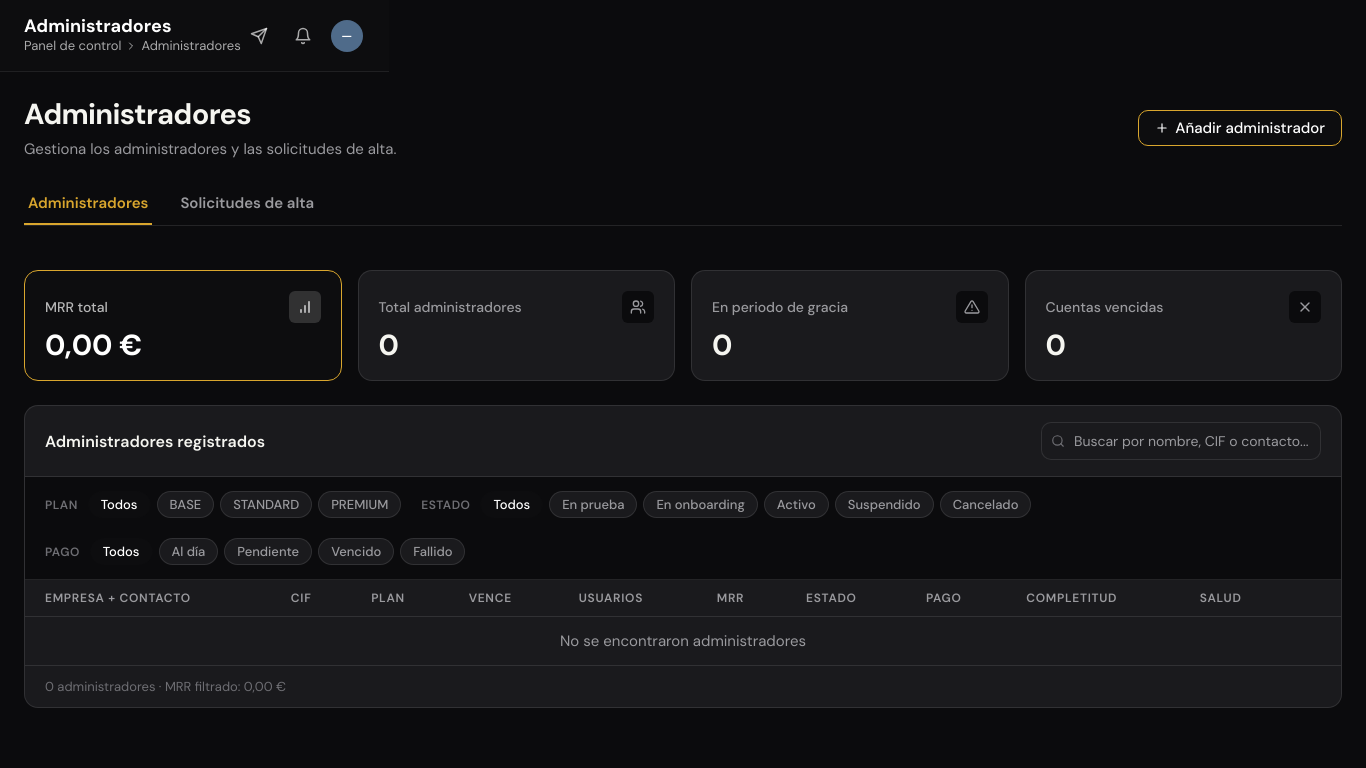
Test: DashboardAComponent › «Añadir administrador» creates the despacho and shows its invitation link
Step 1. Click the button "Añadir administrador" → coordinates (1240, 128), box x1=1138 y1=110 x2=1342 y2=146
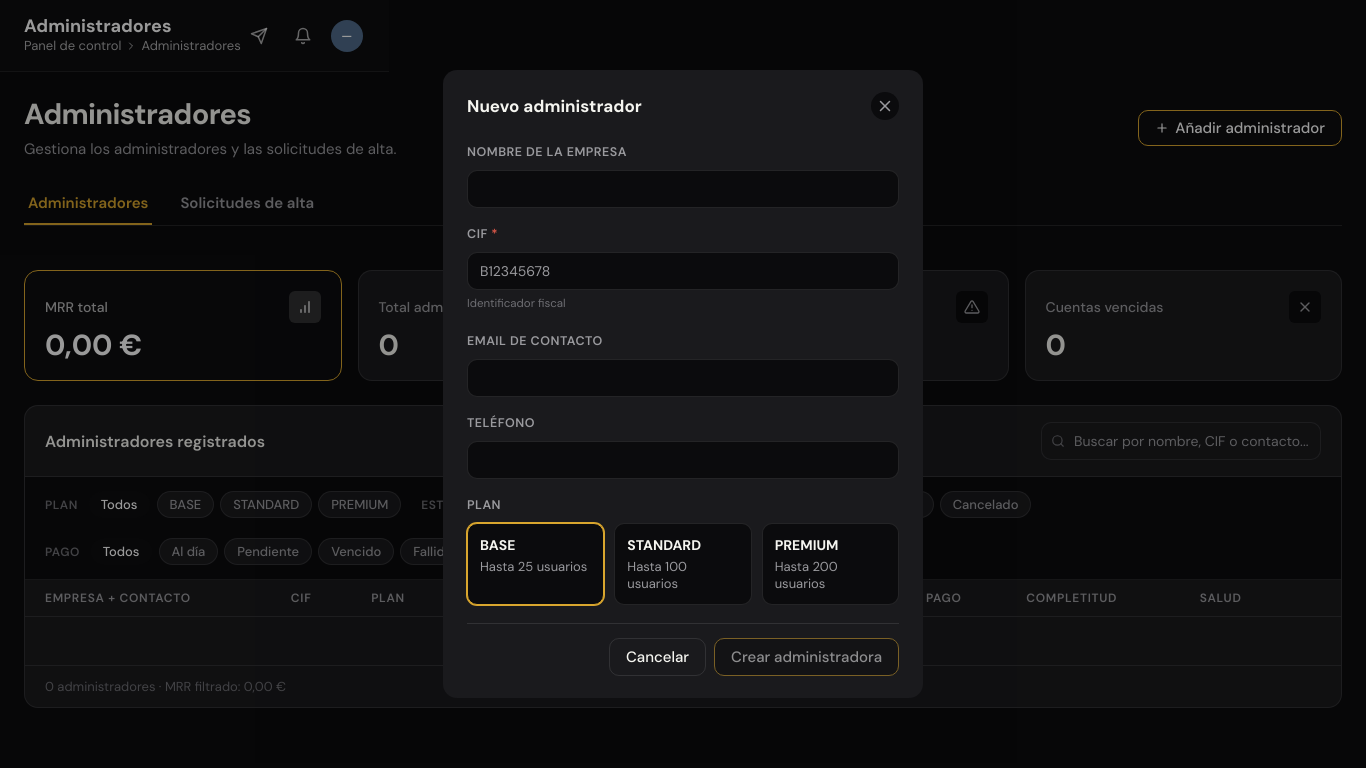
Step 2. Type "Fincas Nuevas" into the 1st field with class "form-input" → coordinates (683, 189), box x1=467 y1=170 x2=899 y2=208
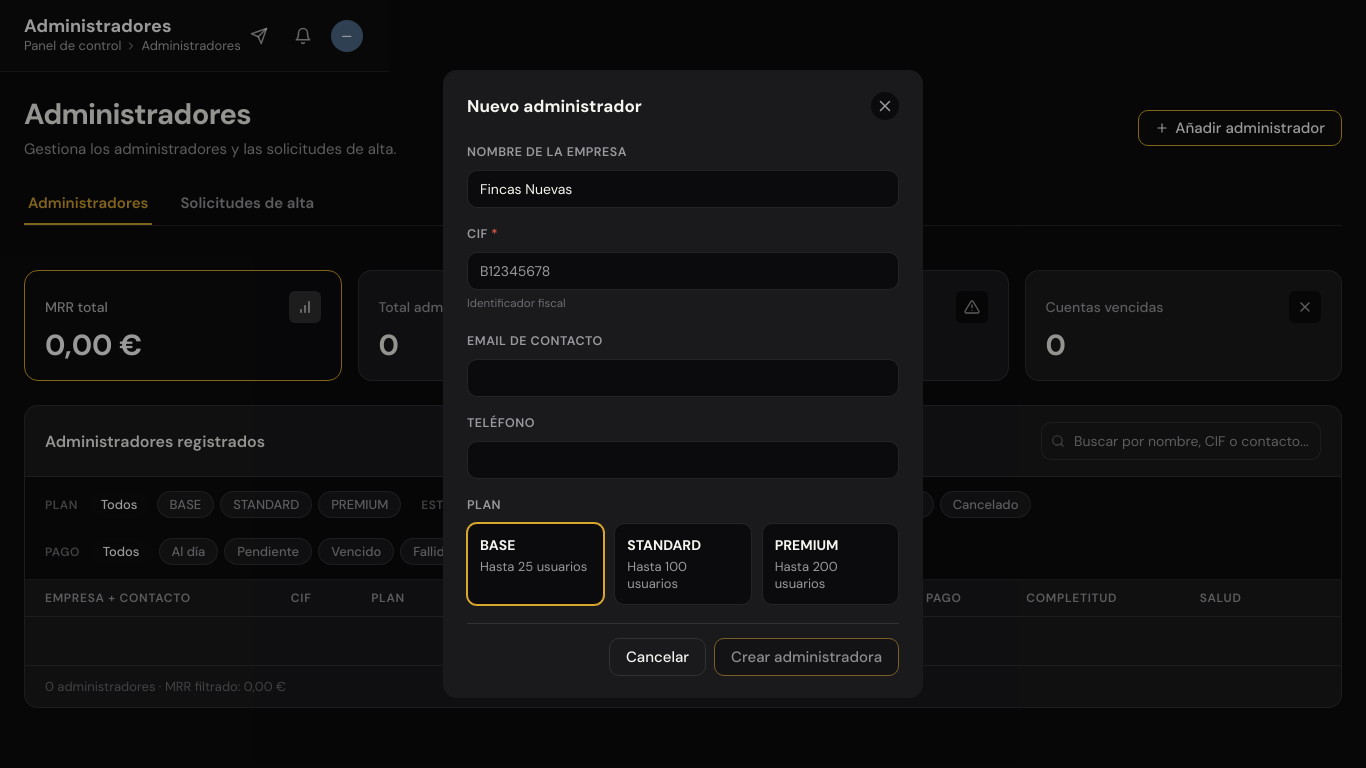
Step 3. Type "B99999999" into the field with class "form-input" showing "B12345678" → coordinates (683, 271), box x1=467 y1=252 x2=899 y2=290
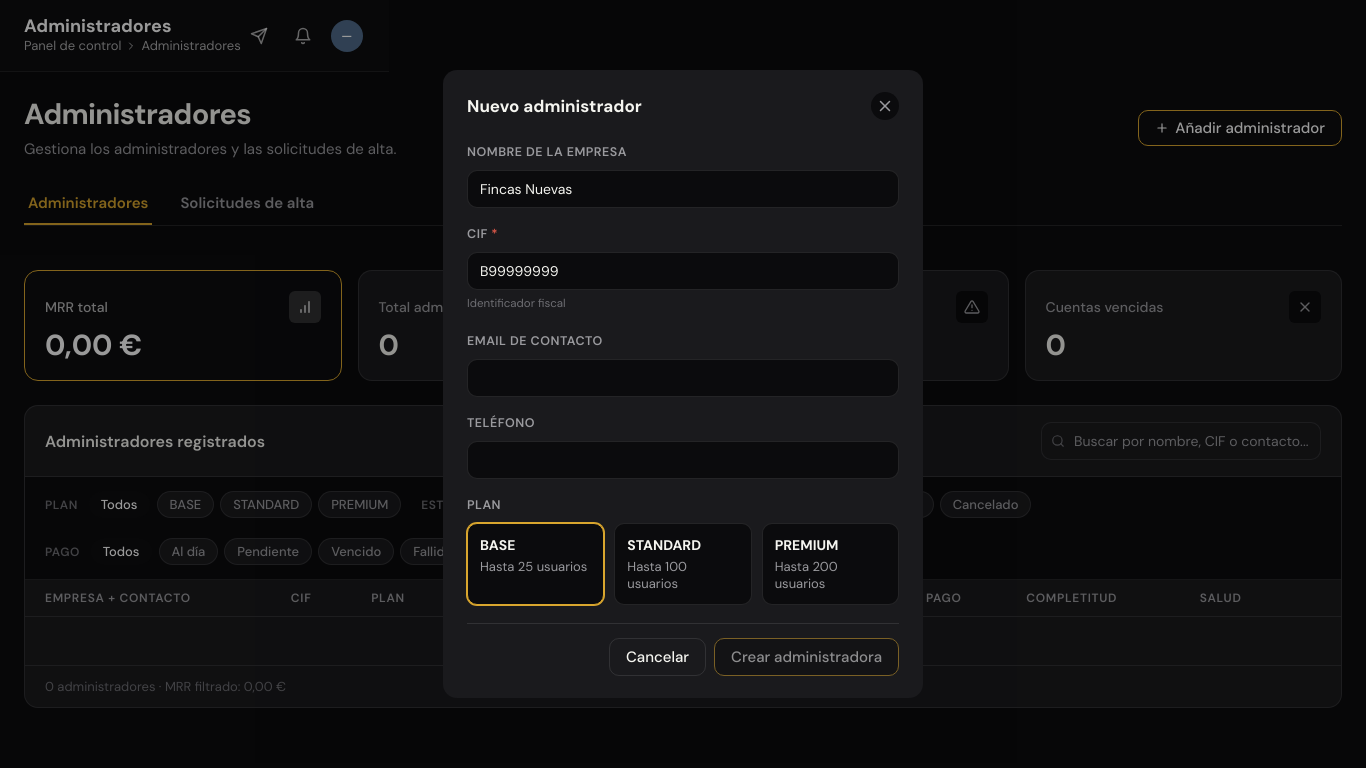
Step 4. Type "hola@nuevas.es" into the 3rd field with class "form-input" → coordinates (683, 378), box x1=467 y1=359 x2=899 y2=397
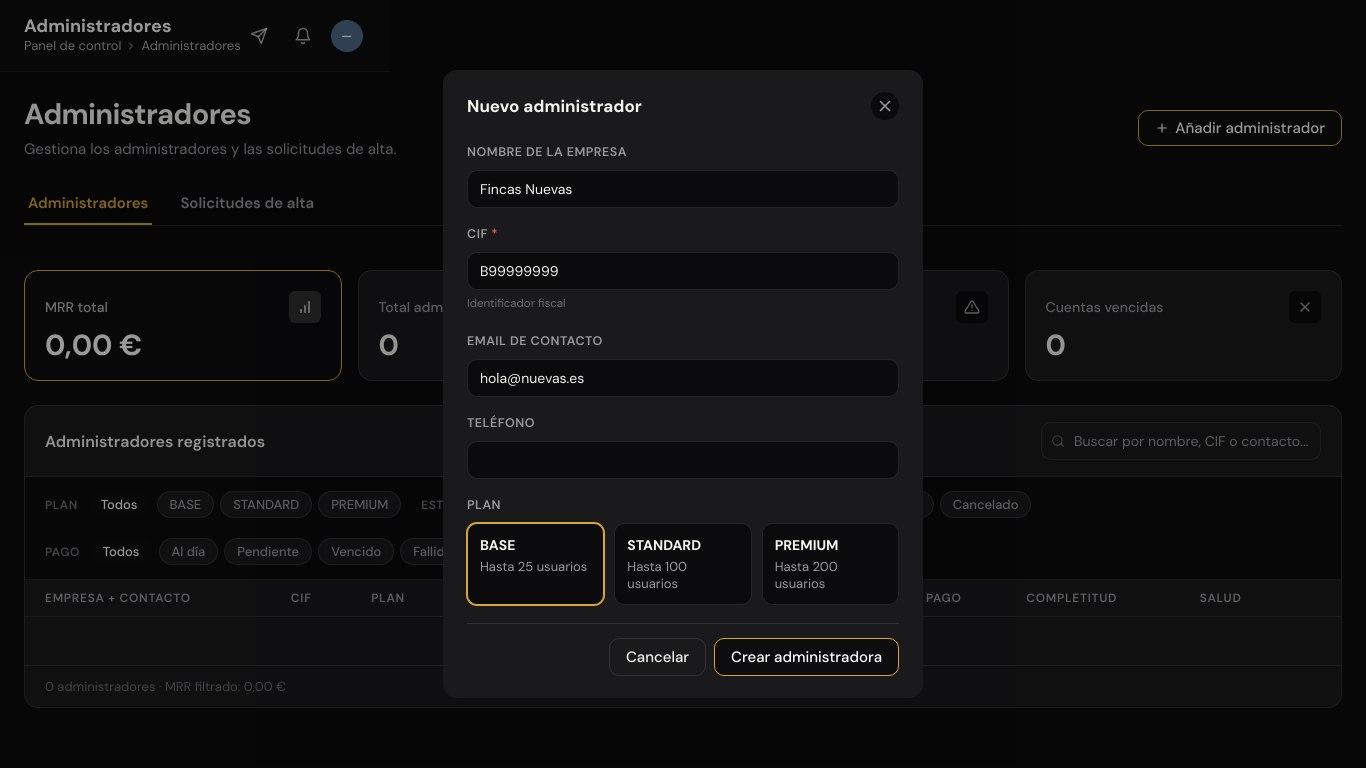
Step 5. Click the button "Crear administradora" → coordinates (807, 657), box x1=714 y1=638 x2=899 y2=676
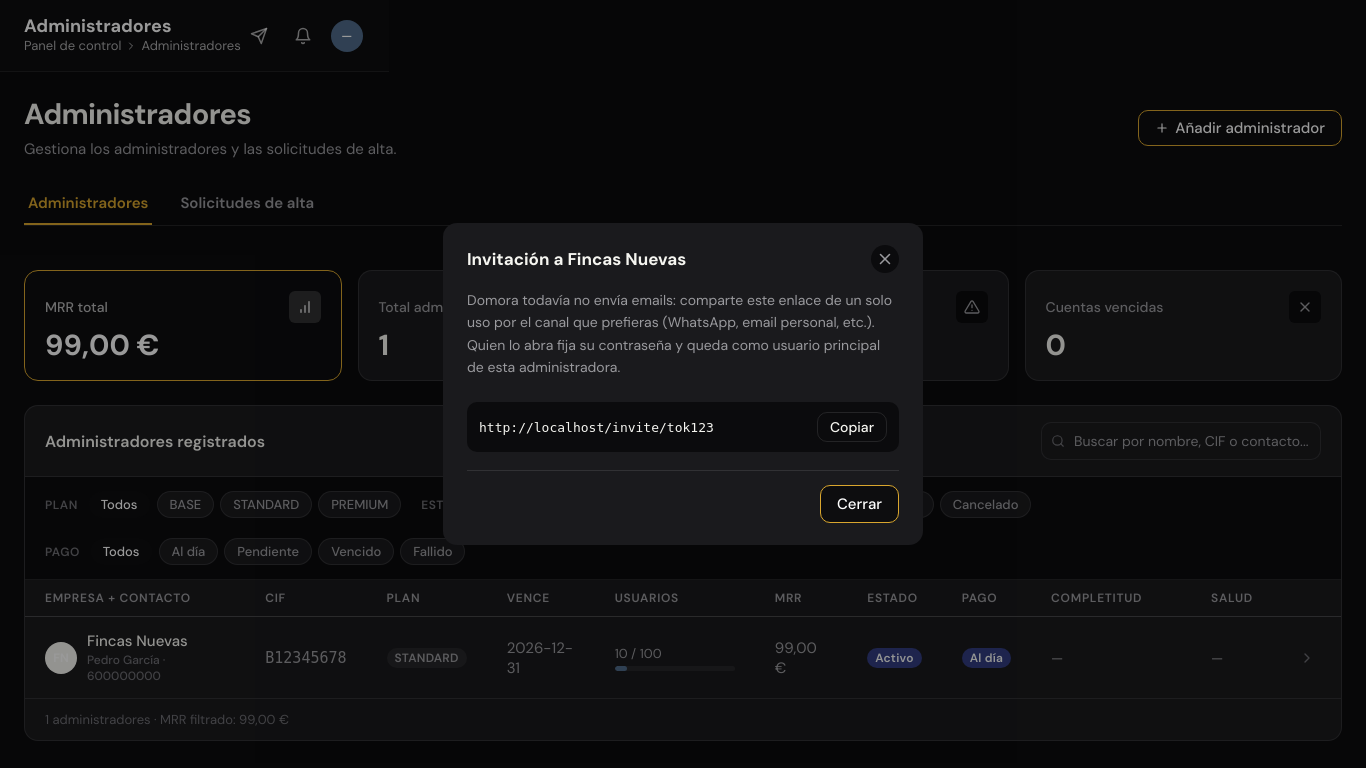
Check: the text with class "invite-link-box__value" shows "/invite/tok123", box x1=479 y1=420 x2=714 y2=435
